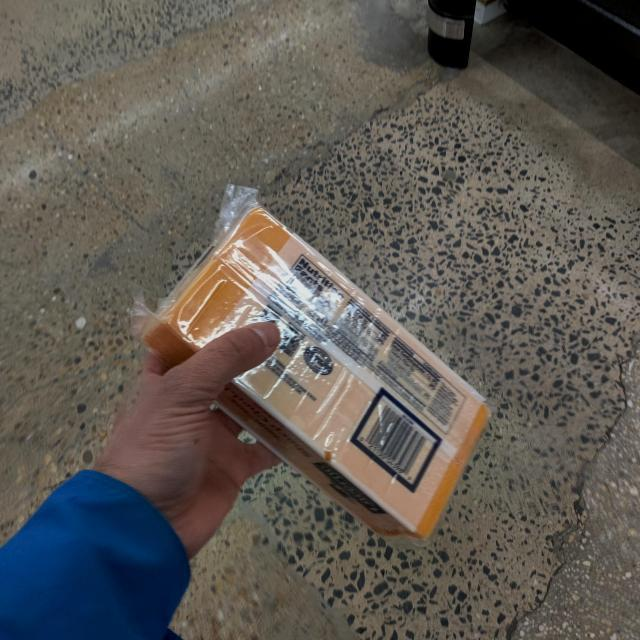Meat: (135, 192, 509, 549)
